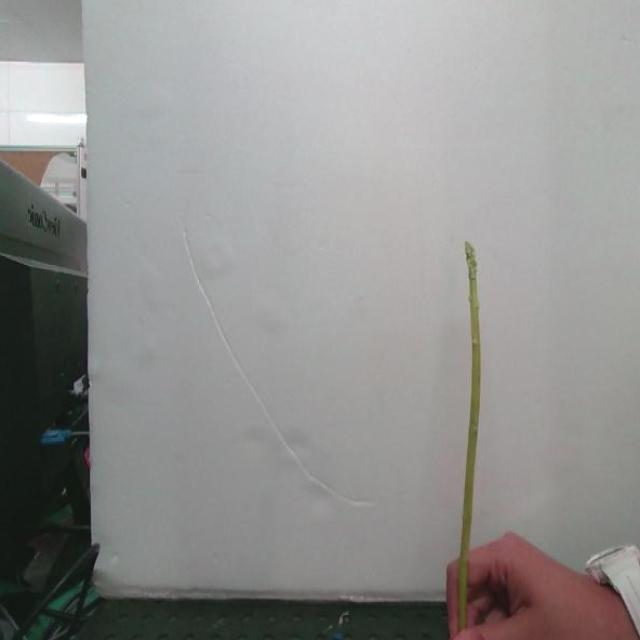aspargus: (452, 244, 485, 640)
